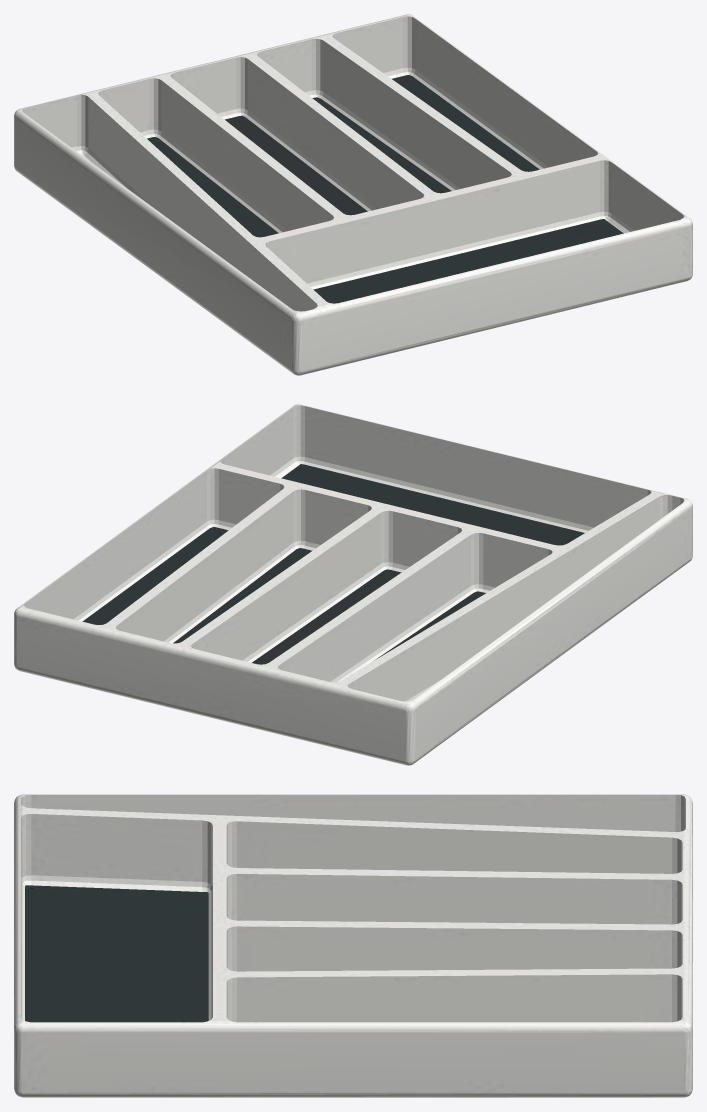
3 views of the same model, one above another, from view 1: azimuth 30°, elevation 25°; view 2: azimuth 150°, elevation 25°; view 3: azimuth 270°, elevation 25° (orthographic). The views are drawn at different scales.
Visible parts, largest first — view 1: body; view 2: body; view 3: body.
Part boxes in pixels (box(x1,y1,x2,y2)): body: box(14, 14, 692, 375); body: box(14, 404, 692, 765); body: box(14, 794, 692, 1097).
Bounding box in the file's own units: 0.318 × 0.048 × 0.391.
Materials: 2 (2 with a texture image).
